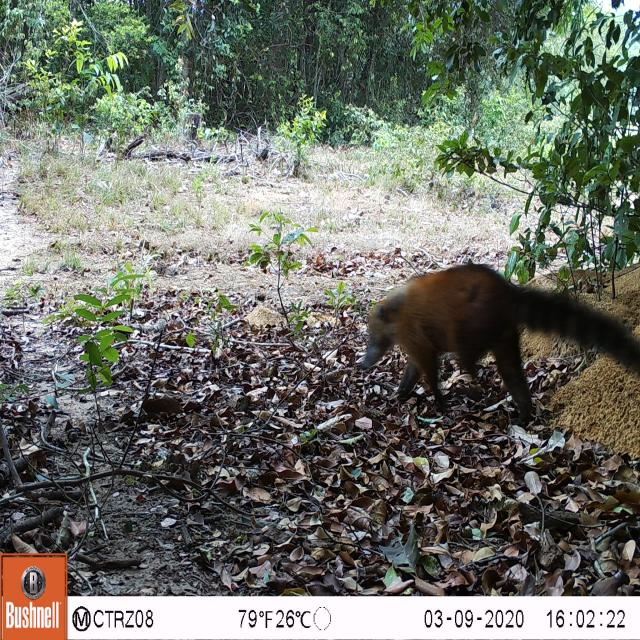South American Coati: (336, 255, 640, 438)
